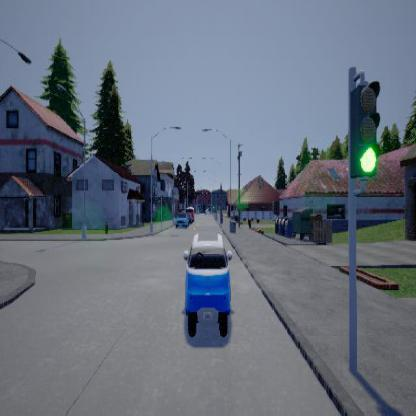traffic_light_green: (350, 69, 380, 195)
vehicle: (182, 232, 232, 336), (174, 206, 194, 228)
